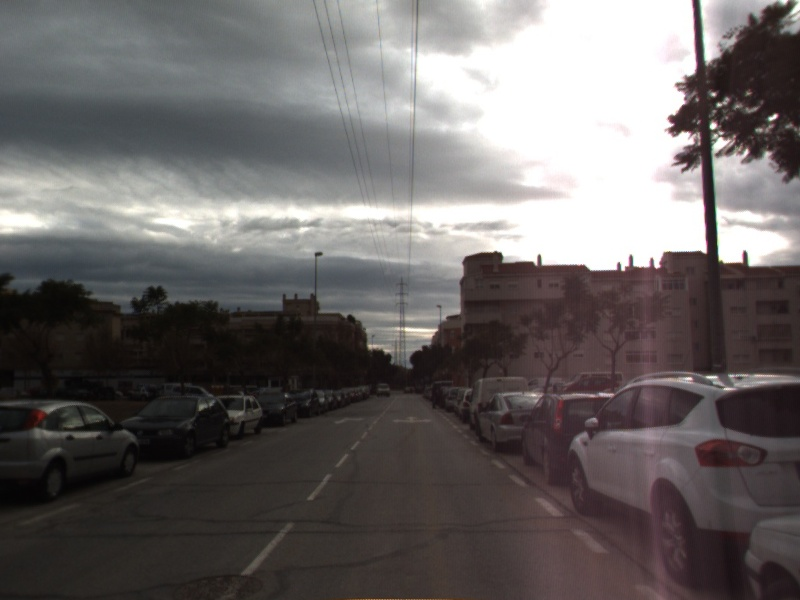STRAIGHT_LEFT_RIGHT: (390, 414, 434, 425)
